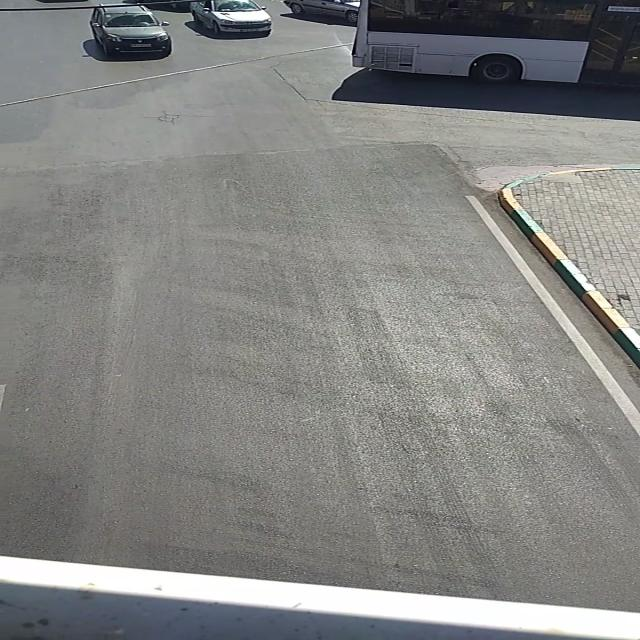bus: (345, 2, 636, 90)
car: (87, 2, 173, 58), (189, 1, 271, 36)
